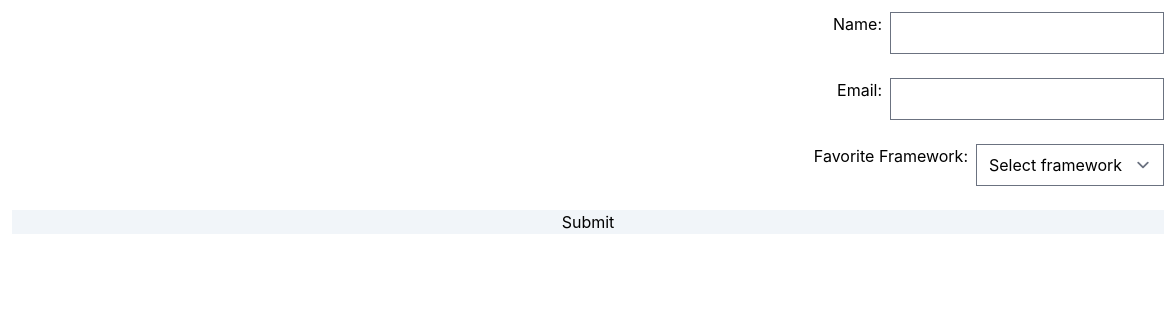
Test: FavoriteForm › should display an error under Name field if validation fails
Step 1. Type "Tech9" into the field labelled "Name:" → (1027, 33), box x1=890 y1=12 x2=1164 y2=54
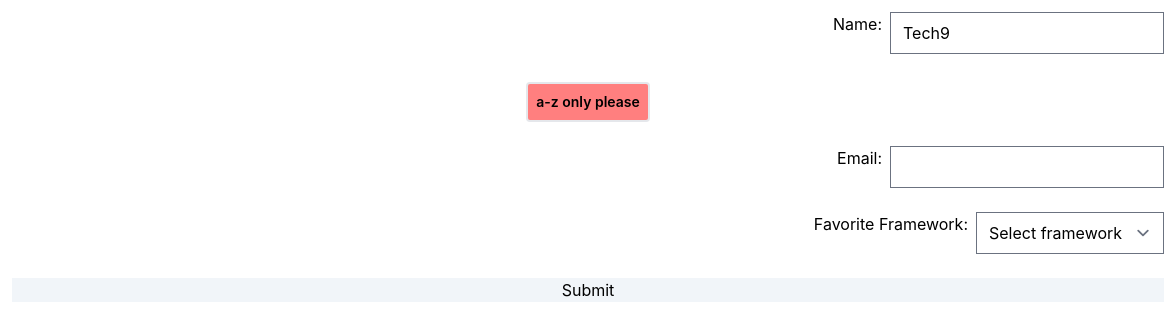
Result: the message "a-z only please" is shown at x1=526 y1=82 x2=650 y2=122
